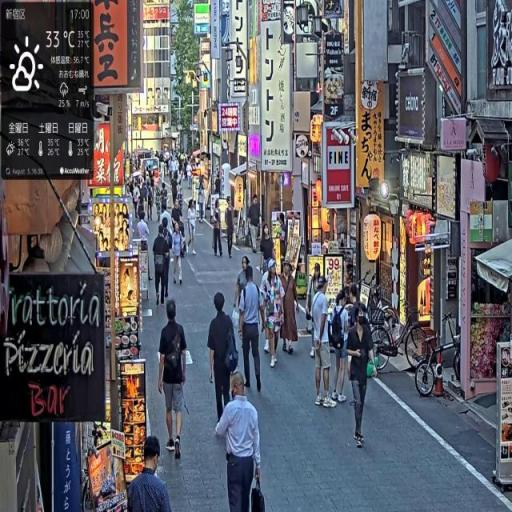person: (213, 369, 266, 512), (159, 297, 190, 460), (208, 292, 240, 434), (347, 306, 378, 452), (129, 434, 174, 512), (312, 273, 337, 409), (240, 265, 265, 395), (263, 262, 285, 372), (154, 220, 175, 309), (281, 262, 299, 354), (171, 221, 188, 288), (224, 196, 236, 261), (212, 198, 224, 259), (188, 198, 199, 256)
